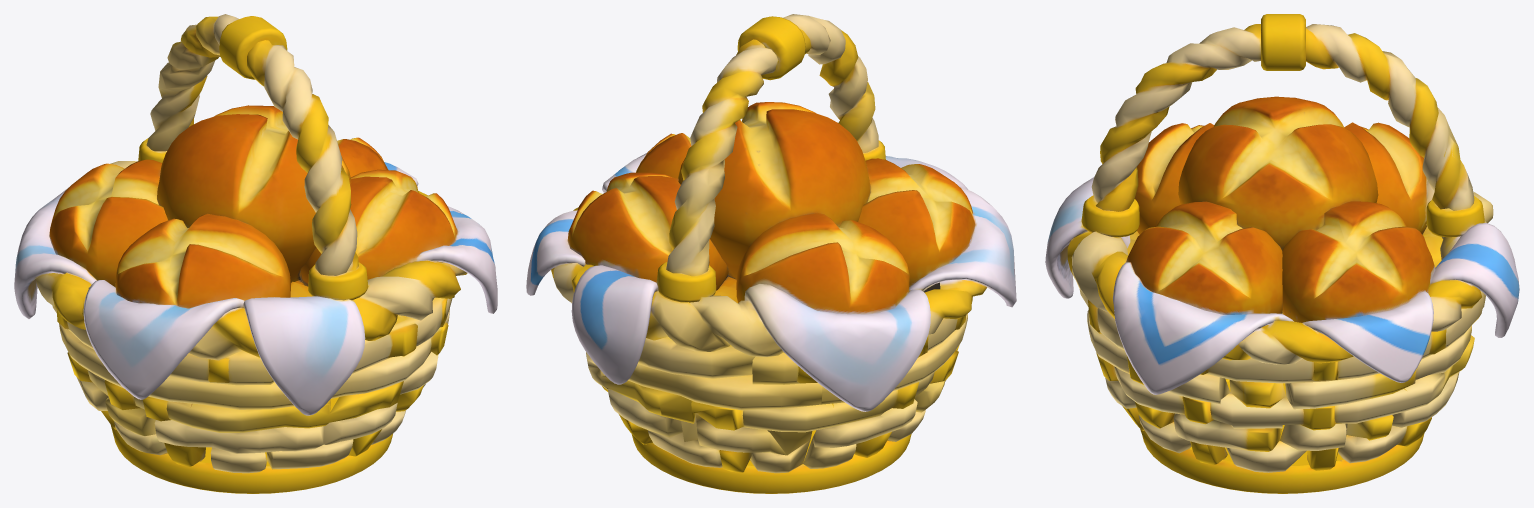
Rendered from NEW_BreadBasket_SM_tex4k_pbr_src.fbx.
The picture shows the model from 3 angles, left to right: view 1: azimuth 30°, elevation 25°; view 2: azimuth 150°, elevation 25°; view 3: azimuth 270°, elevation 25°; orthographic projection.
Visible parts, largest first — view 1: tripo_67941528_3a0e_4cd5_8b45_3f0cc3a97f19; view 2: tripo_67941528_3a0e_4cd5_8b45_3f0cc3a97f19; view 3: tripo_67941528_3a0e_4cd5_8b45_3f0cc3a97f19.
Boxes of the visible parts, box(x1,y1,x2,y2) form: tripo_67941528_3a0e_4cd5_8b45_3f0cc3a97f19: box(14, 14, 497, 493); tripo_67941528_3a0e_4cd5_8b45_3f0cc3a97f19: box(526, 14, 1016, 493); tripo_67941528_3a0e_4cd5_8b45_3f0cc3a97f19: box(1045, 14, 1519, 493).
Size of the model in its own units: 0.9731 by 0.9722 by 0.9995.
1 material, 1 textured.
